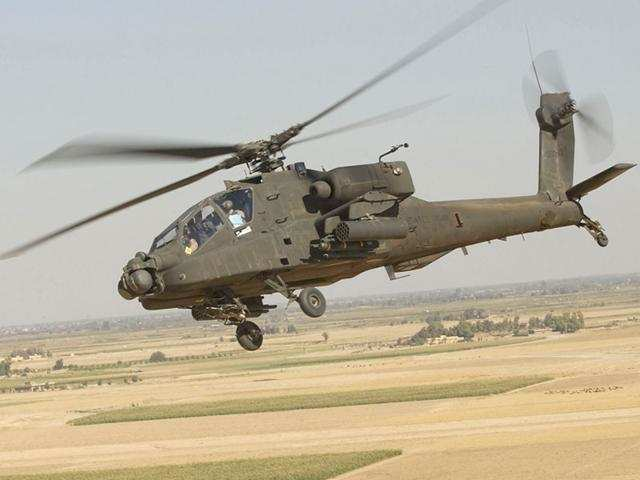MilitaryHelicopter: (53, 68, 627, 299)
